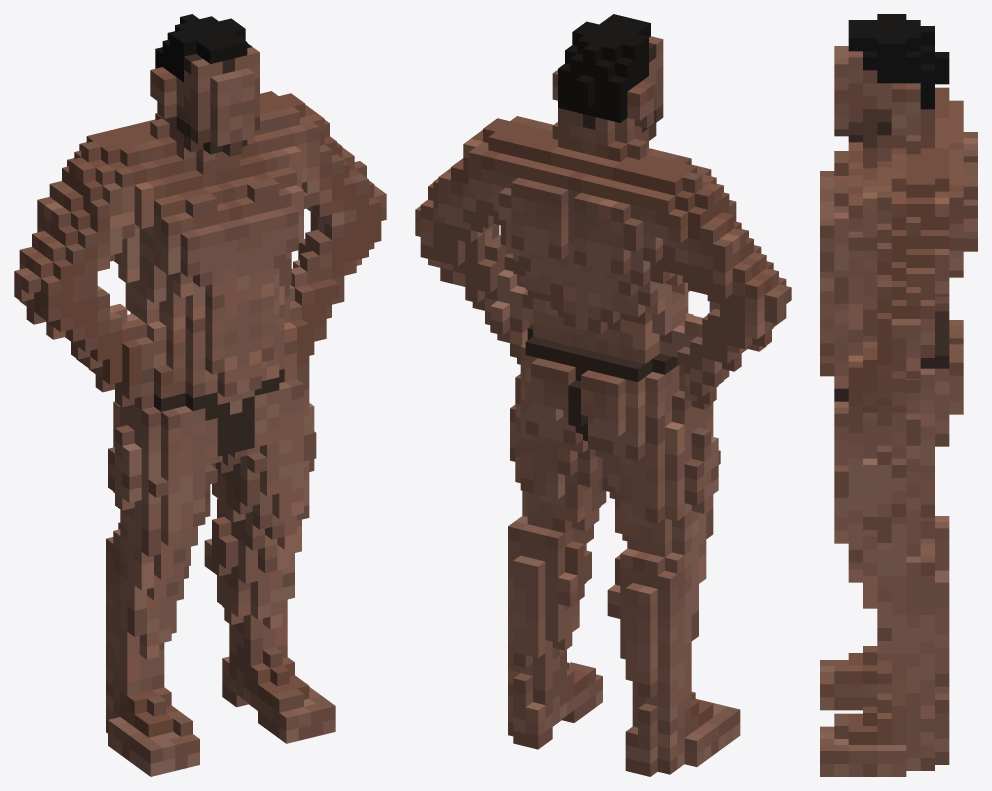
The model's file is SYS_done.obj.
3 views of the same model, side by side, from view 1: azimuth 30°, elevation 25°; view 2: azimuth 150°, elevation 25°; view 3: azimuth 270°, elevation 25° (orthographic).
Parts seen in each view (by area): view 1: man; view 2: man; view 3: man.
Part boxes in pixels (x1=…): man: x1=14, y1=14, x2=386, y2=776; man: x1=415, y1=14, x2=791, y2=776; man: x1=820, y1=14, x2=977, y2=776.
Size of the model in its own units: 2.9 by 5.4 by 1.1.
